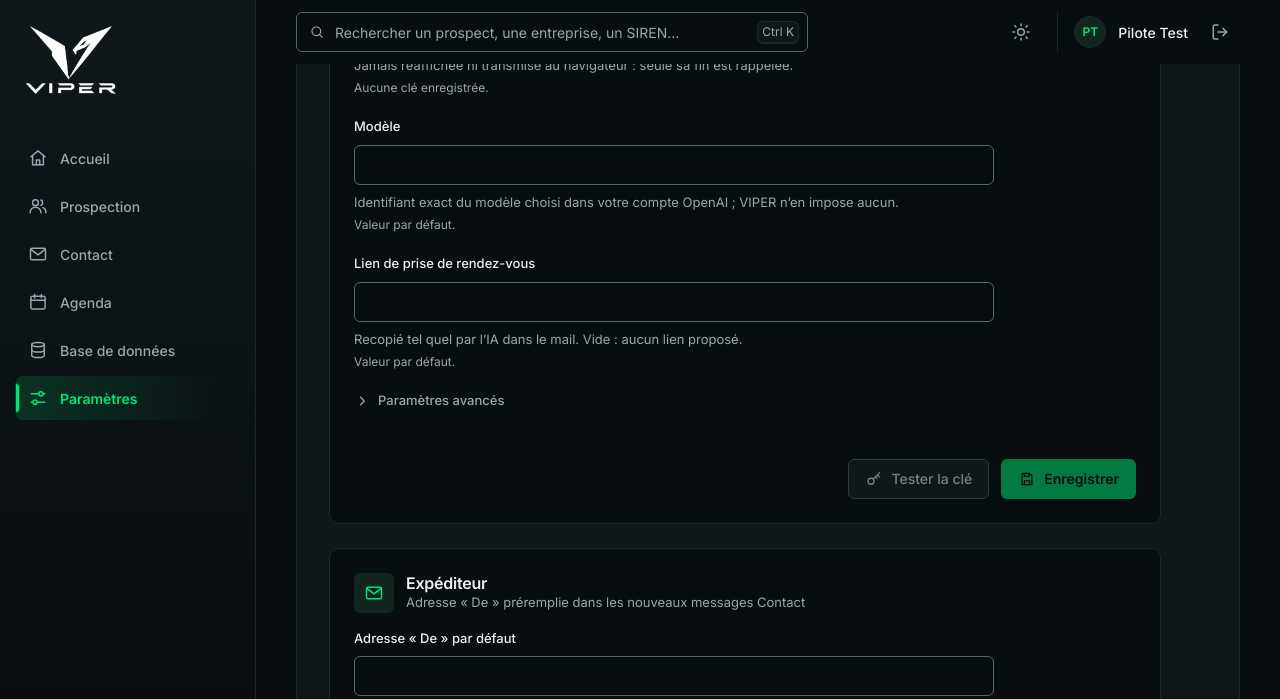
Test: Rédaction IA (OpenAI) › puts a refused value’s message under its field
The width and height of the screenshot is (1280, 699).
(page scrolled)
Click the heading "Paramètres avancés": (429, 401) [354, 391, 504, 410]
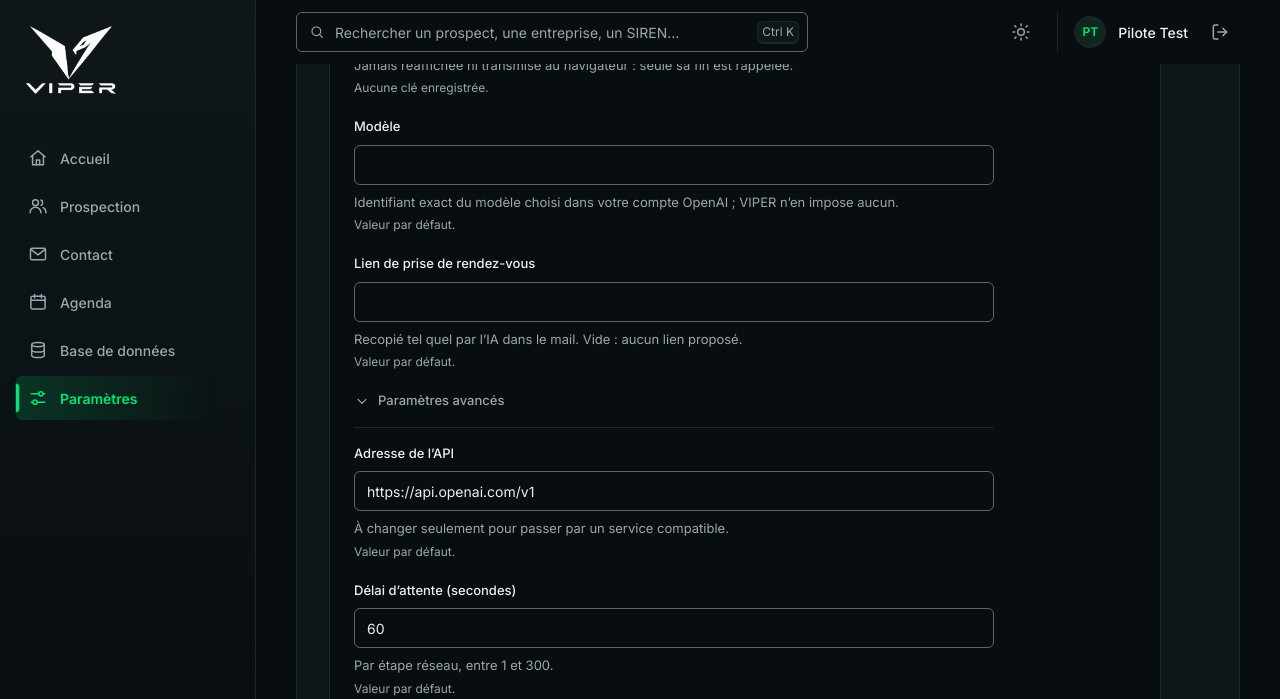
Replace the text in the field labelled "Adresse de l’API" with "ftp://ailleurs": (674, 491) [354, 471, 994, 511]
(page scrolled)
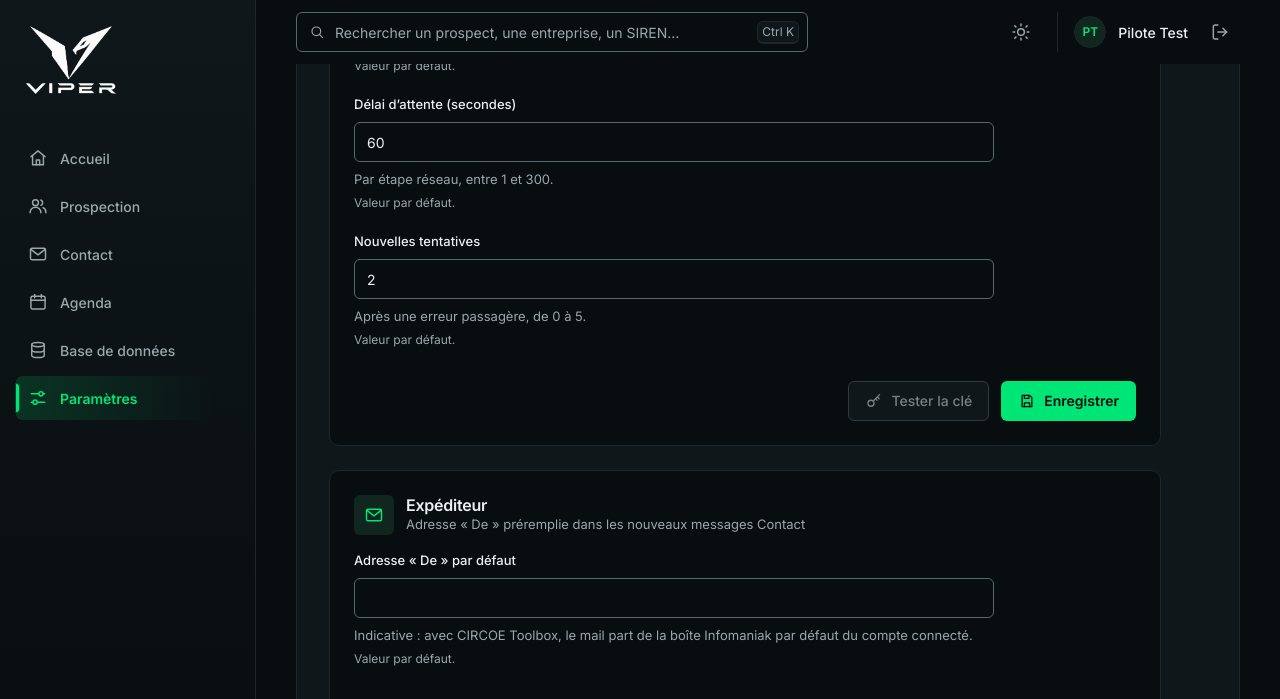
Click the 1st button "Enregistrer": (1069, 400) [1001, 380, 1136, 420]
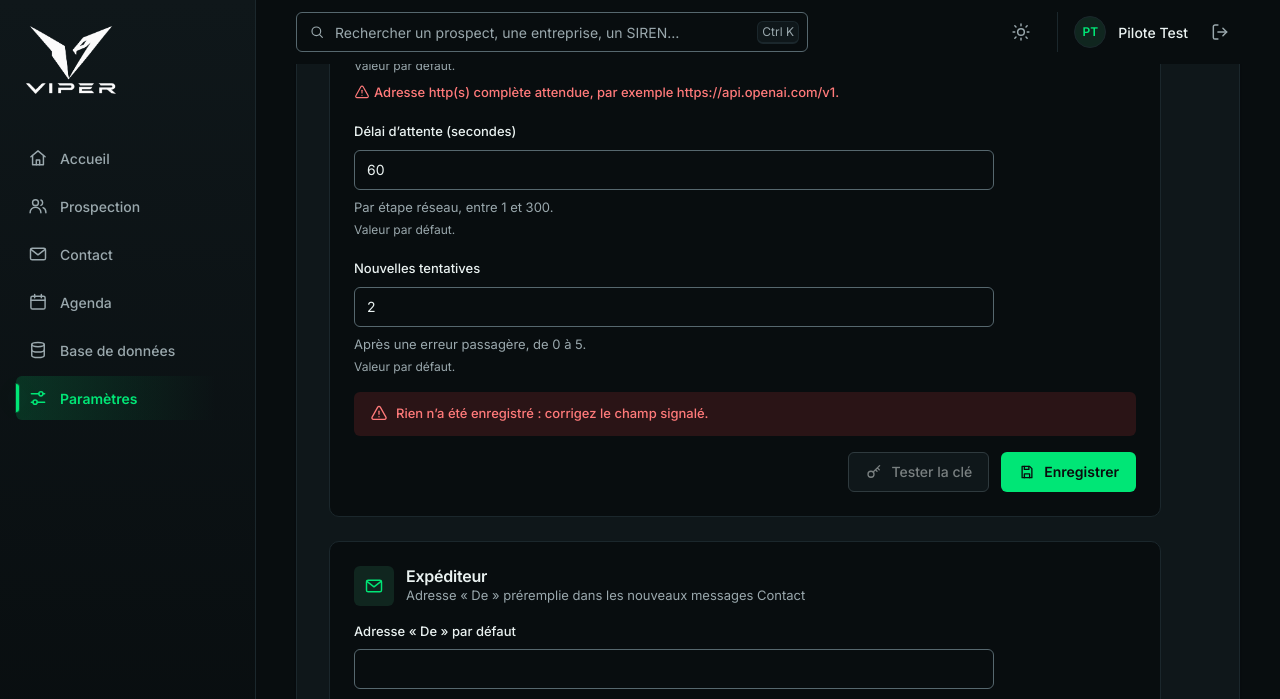
Result: the text "Adresse http(s) complète attendue, par exemple" is shown at [374, 84, 839, 100]
Result: the text "Rien n’a été enregistré : corrigez le champ signalé." is shown at [354, 392, 1136, 436]
